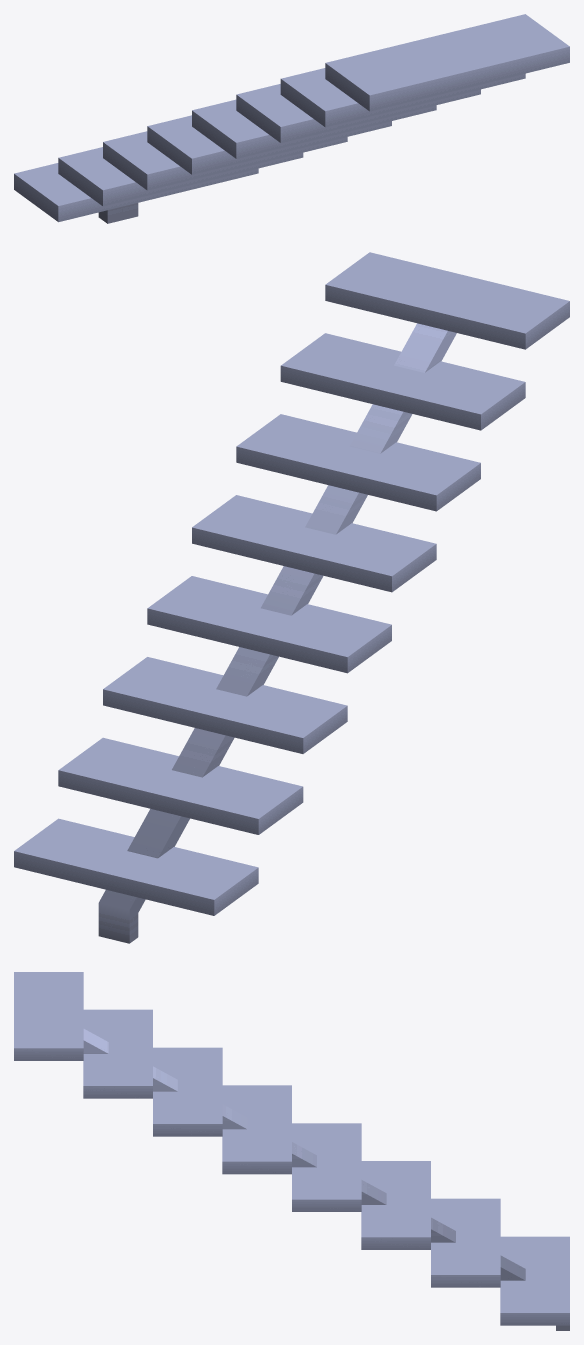
The model's file is bk_stairs.glb.
The picture shows the model from 3 angles, top to bottom: view 1: azimuth 30°, elevation 25°; view 2: azimuth 150°, elevation 25°; view 3: azimuth 270°, elevation 25°; orthographic projection. The views are drawn at different scales.
Visible parts, largest first — view 1: stairs-center; view 2: stairs-center; view 3: stairs-center.
Part boxes in pixels (x1,y1,x2,y2): stairs-center: [14, 14, 569, 223]; stairs-center: [14, 252, 569, 943]; stairs-center: [14, 972, 569, 1330].
Bounding box in the file's own units: 1.3 × 2.5 × 4.
Materials: 1 (1 with a texture image).
